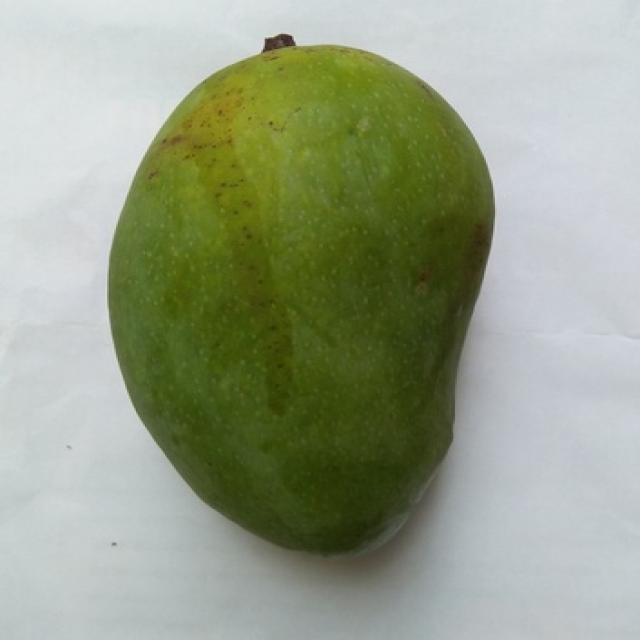Mango: (109, 46, 493, 554)
